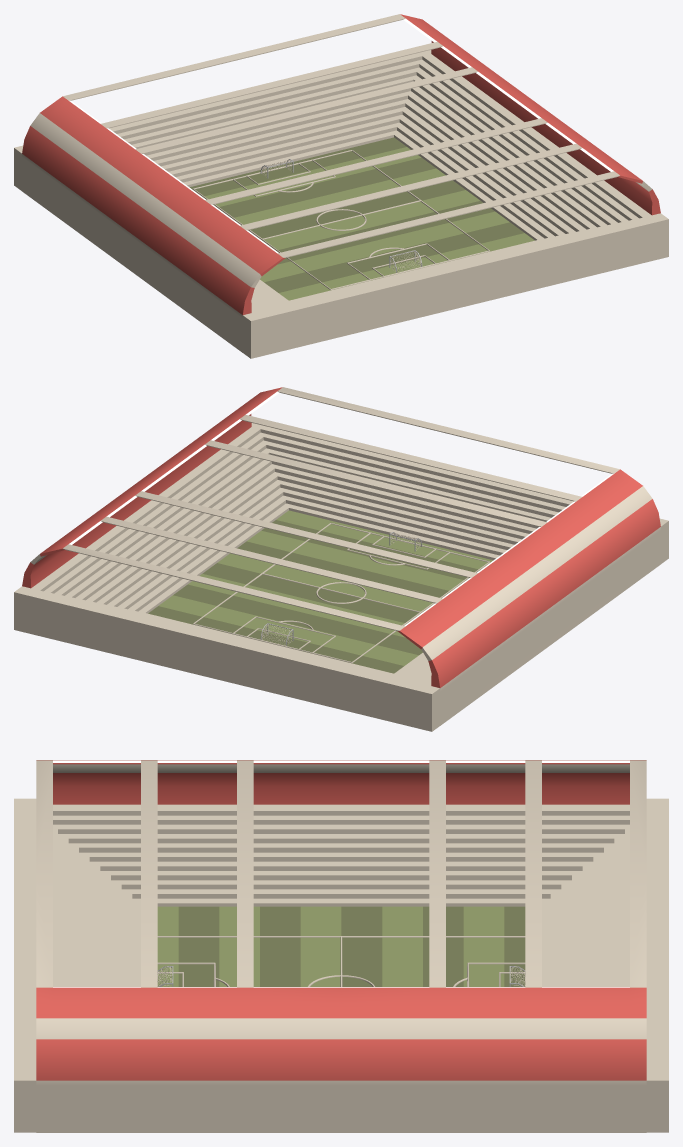
The picture shows the model from 3 angles, top to bottom: view 1: azimuth 30°, elevation 25°; view 2: azimuth 150°, elevation 25°; view 3: azimuth 270°, elevation 25°; orthographic projection. The views are drawn at different scales.
Visible parts, largest first — view 1: football_field_0; view 2: football_field_0; view 3: football_field_0.
Part boxes in pixels (x1,y1,x2,y2): football_field_0: (14,14,668,358); football_field_0: (14,387,668,731); football_field_0: (14,760,668,1132).
Bounding box in the file's own units: 29.66 × 5.78 × 29.11.
